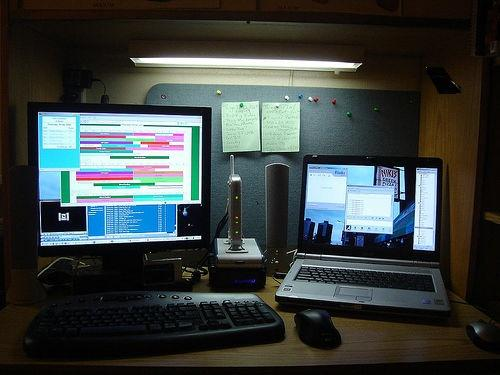tampered: (426, 68, 461, 94)
